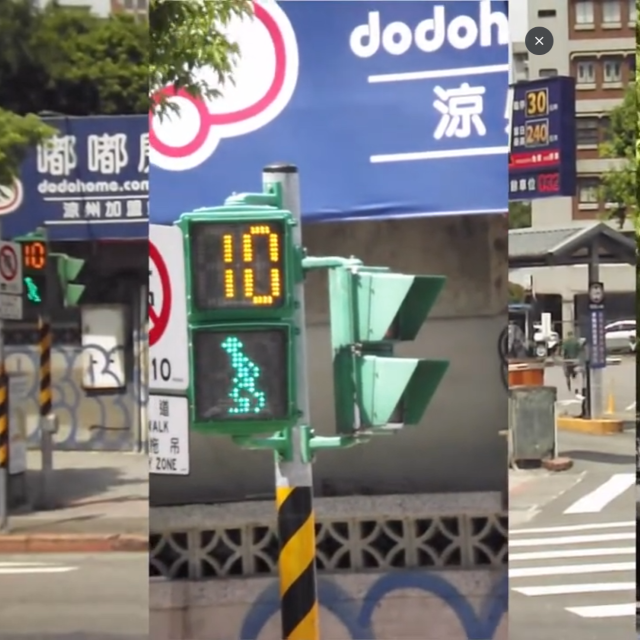green_light: (183, 212, 298, 430), (21, 240, 46, 302)
